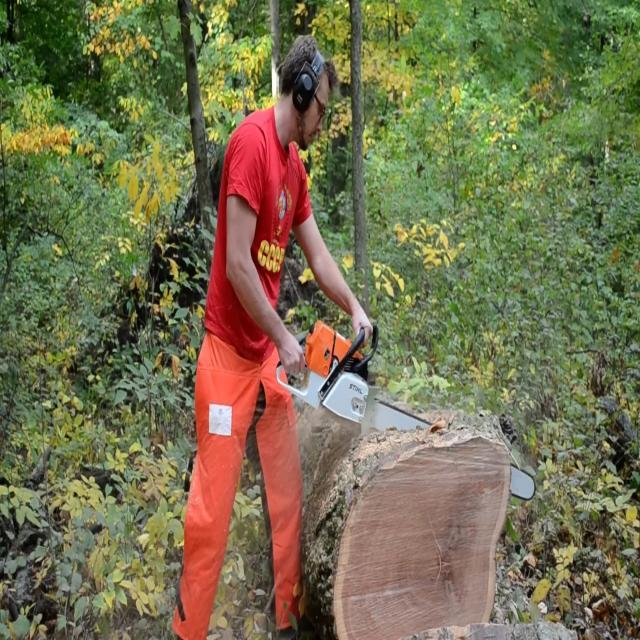Chainsaw: (256, 306, 544, 530)
